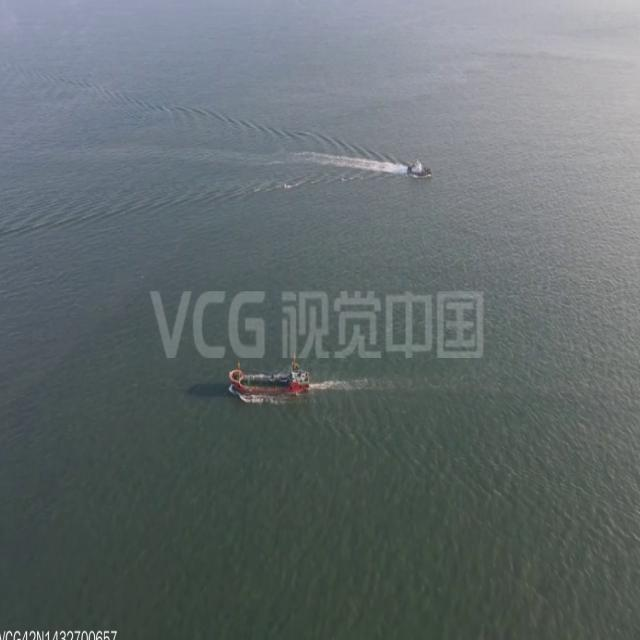cargoship: (228, 355, 313, 404), (405, 156, 435, 182)
